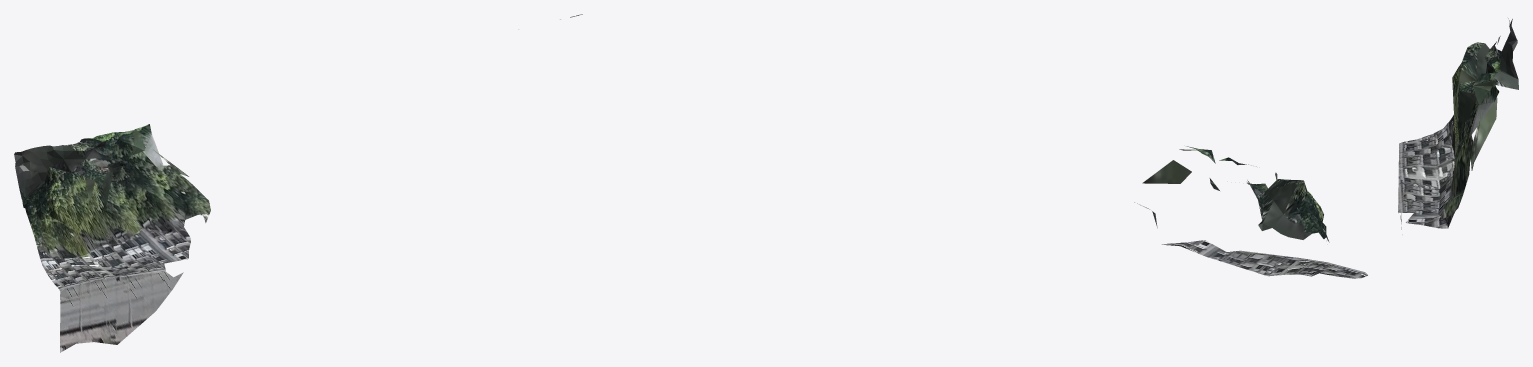
The model's file is Tile_+003_+000.glb.
The picture shows the model from 3 angles, left to right: view 1: azimuth 30°, elevation 25°; view 2: azimuth 150°, elevation 25°; view 3: azimuth 270°, elevation 25°; orthographic projection. The views are drawn at different scales.
Visible parts, largest first — view 1: Node; view 2: Node; view 3: Node.
Part boxes in pixels (x1,y1,x2,y2): Node: (14, 14, 582, 352); Node: (1134, 146, 1367, 278); Node: (1398, 18, 1518, 234).
Size of the model in its own units: 141 by 41.63 by 21.34.
Materials: 1 (1 with a texture image).
